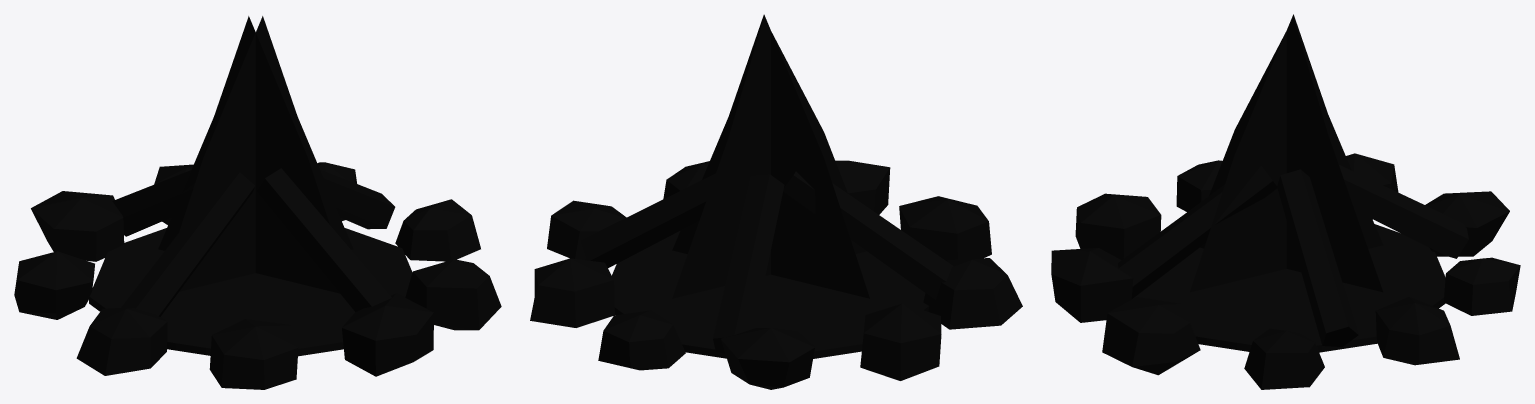
File: SM_campfire.fbx
The picture shows the model from 3 angles, left to right: view 1: azimuth 30°, elevation 25°; view 2: azimuth 150°, elevation 25°; view 3: azimuth 270°, elevation 25°; orthographic projection. The views are drawn at different scales.
Parts seen in each view (by area): view 1: campfire, campfire_flames; view 2: campfire, campfire_flames; view 3: campfire, campfire_flames.
Boxes of the visible parts, left/top/right/bottom form: campfire: left=14, top=162, right=501, bottom=389; campfire_flames: left=158, top=16, right=353, bottom=293; campfire: left=530, top=160, right=1022, bottom=389; campfire_flames: left=672, top=14, right=869, bottom=298; campfire: left=1051, top=153, right=1520, bottom=389; campfire_flames: left=1190, top=14, right=1382, bottom=292.
Bounding box in the file's own units: 1.19 × 0.8161 × 1.18.
